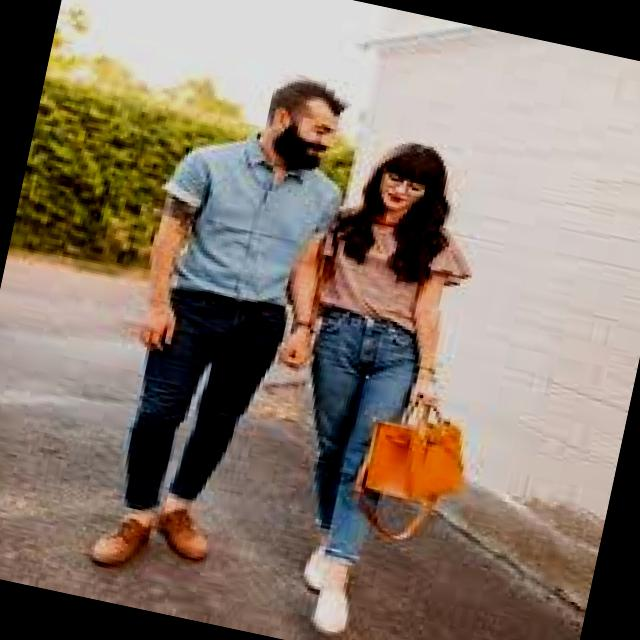face: (273, 99, 339, 170), (379, 170, 428, 214)
foot-wear: (90, 519, 151, 567), (156, 509, 209, 561), (311, 586, 349, 635), (303, 547, 327, 591)
lower-wear: (125, 291, 286, 510), (312, 308, 419, 563)
top-wear: (146, 126, 342, 315), (310, 195, 482, 338)
